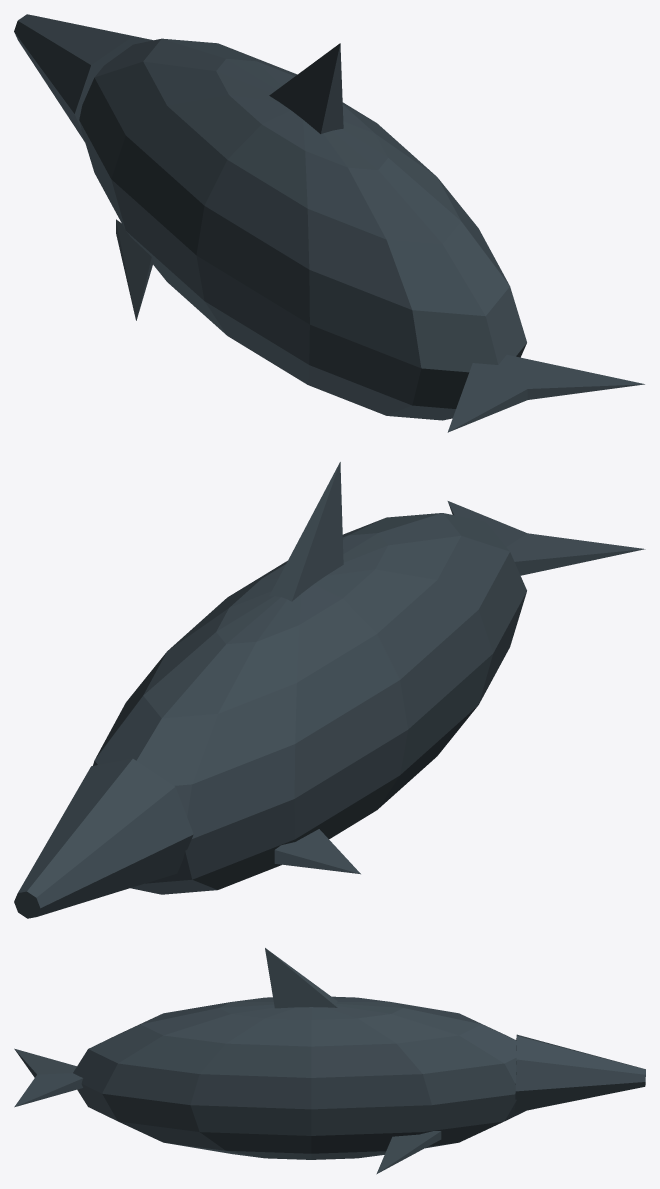
The model's file is dolphin.glb.
3 views of the same model, one above another, from view 1: azimuth 30°, elevation 25°; view 2: azimuth 150°, elevation 25°; view 3: azimuth 270°, elevation 25° (orthographic). The views are drawn at different scales.
Visible parts, largest first — view 1: dolphin; view 2: dolphin; view 3: dolphin.
Boxes of the visible parts, bbox=[...] form: dolphin: bbox=[14, 14, 644, 432]; dolphin: bbox=[14, 462, 645, 918]; dolphin: bbox=[14, 948, 645, 1174].
Size of the model in its own units: 1.7 by 2.45 by 6.8.
